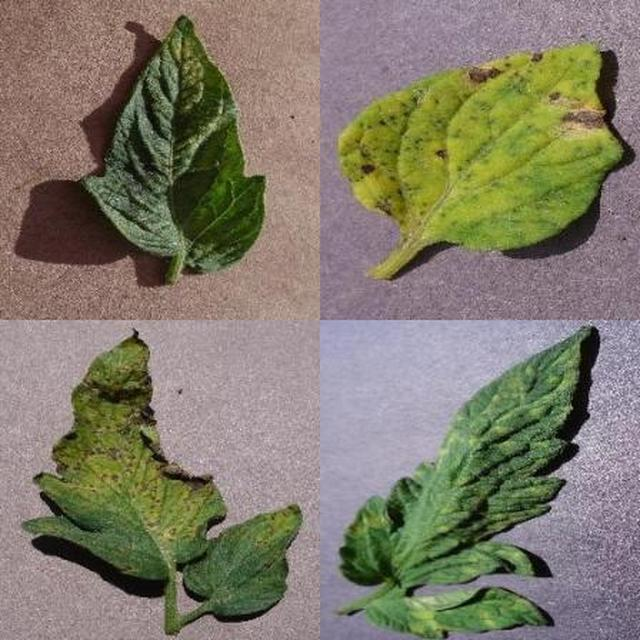Spider Mites Leaf: (176, 80, 640, 640)
